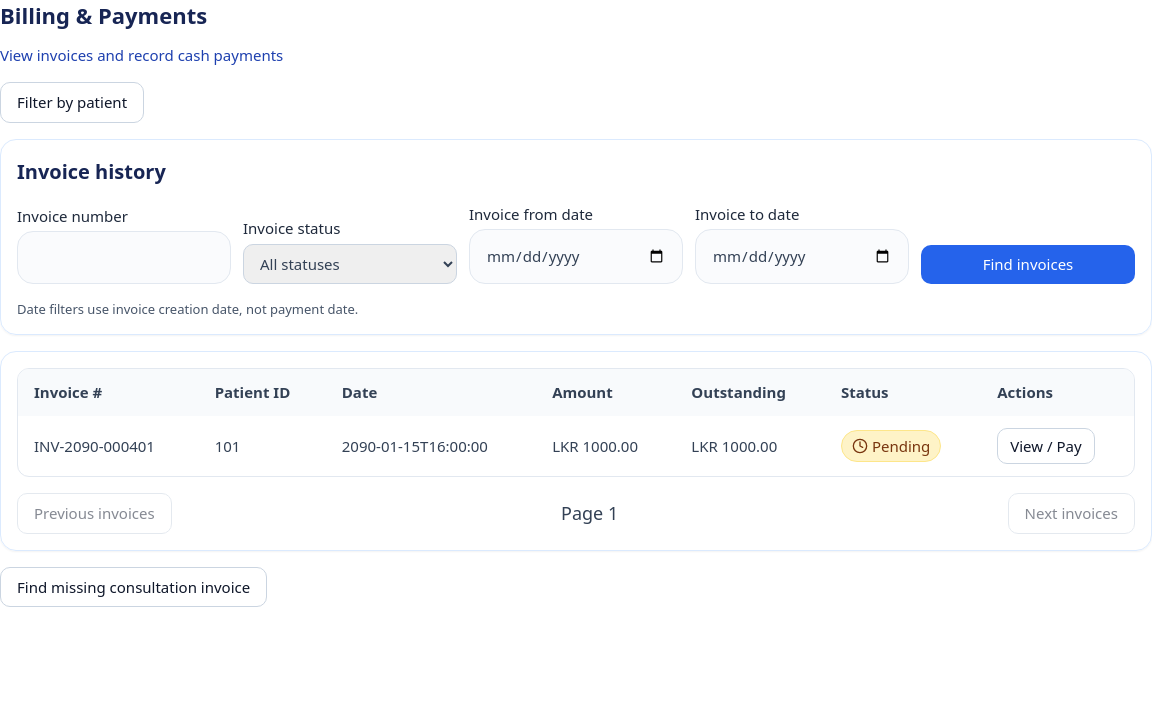
Test: ADM-07 cash billing › rejects invalid amount 0 before payment
Step 1. Click the button with aria-label "View invoice INV-2090-000401" → {"x": 1046, "y": 446}, box [997,428,1094,464]
(page scrolled)
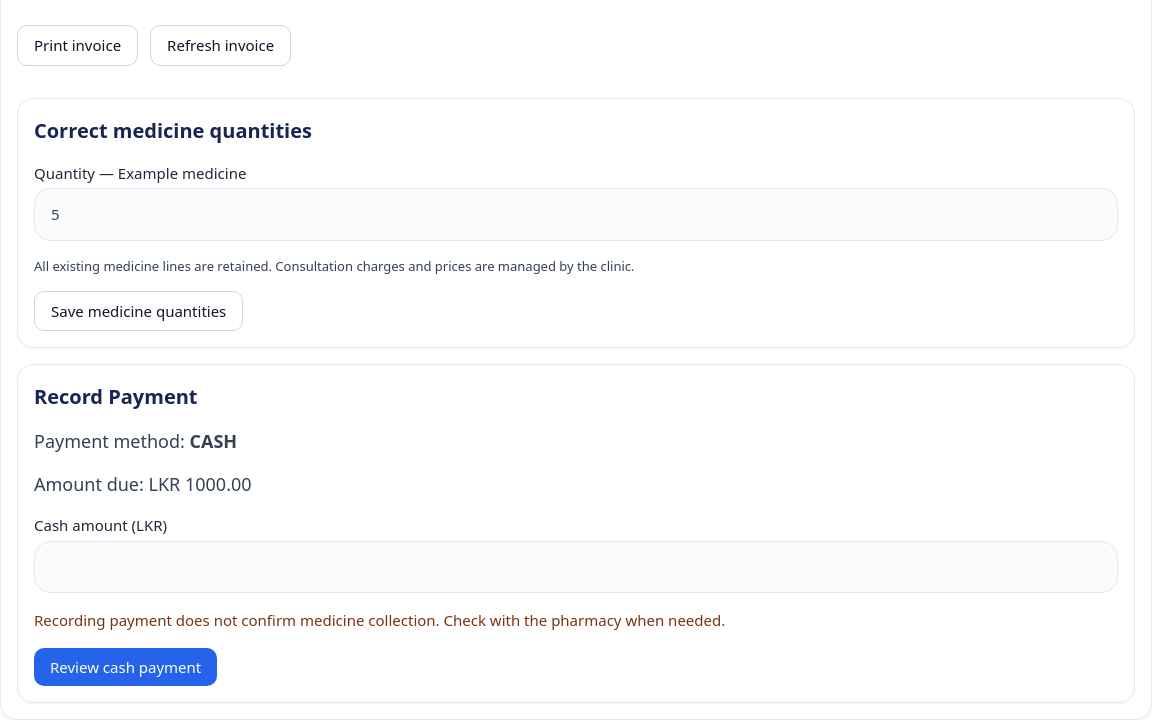
Check: the field labelled "Cash amount (LKR)" is shown
Step 2. Type "0" into the field labelled "Cash amount (LKR)" → {"x": 576, "y": 567}, box [34,541,1118,593]
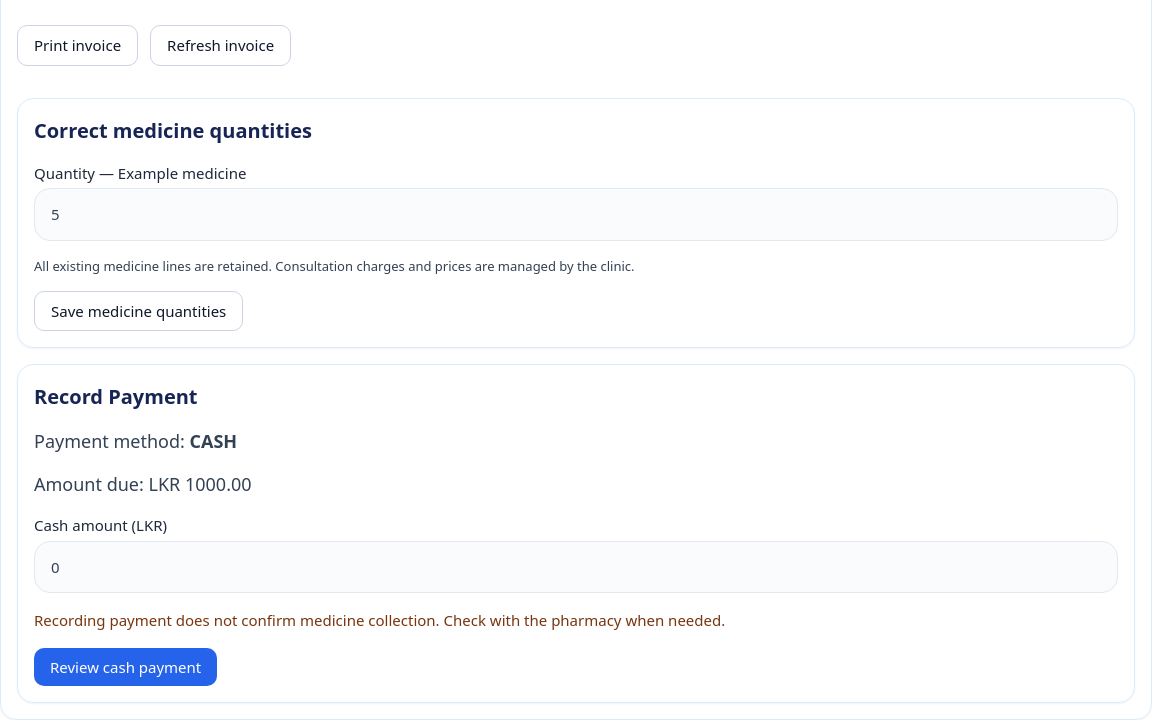
Step 3. Click the button "Review cash payment" → {"x": 126, "y": 667}, box [34,648,217,686]
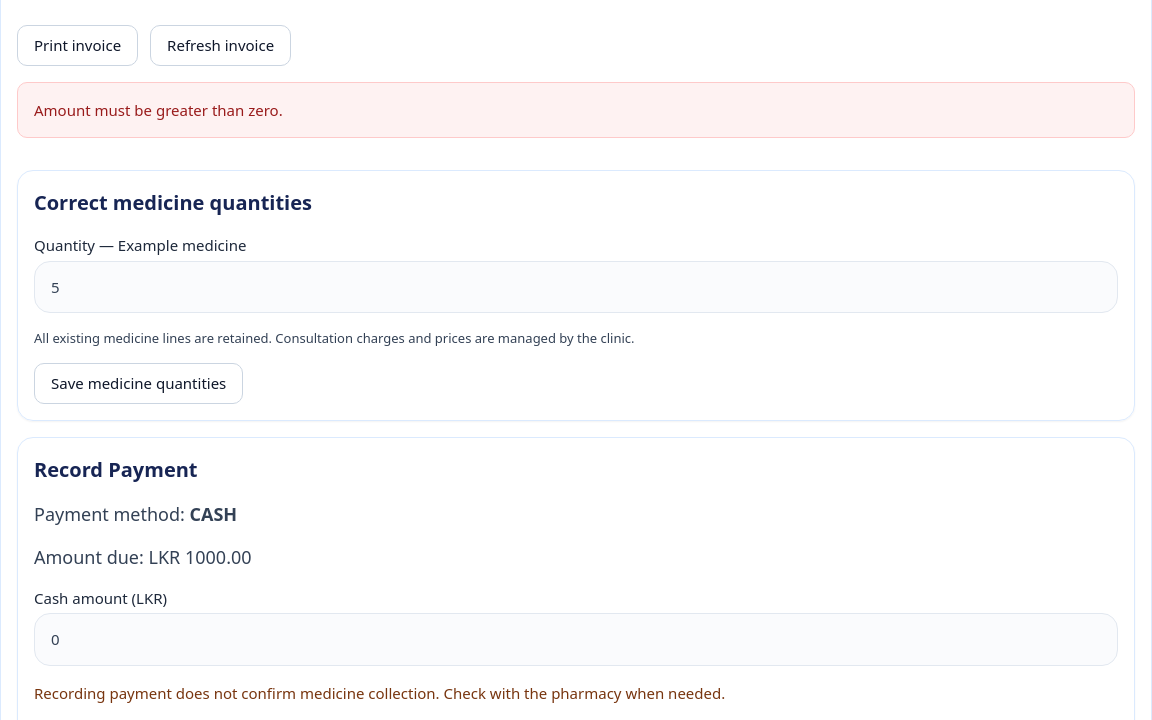
Check: the message "Amount must be greater than zero." is shown, box [17,82,1135,138]
